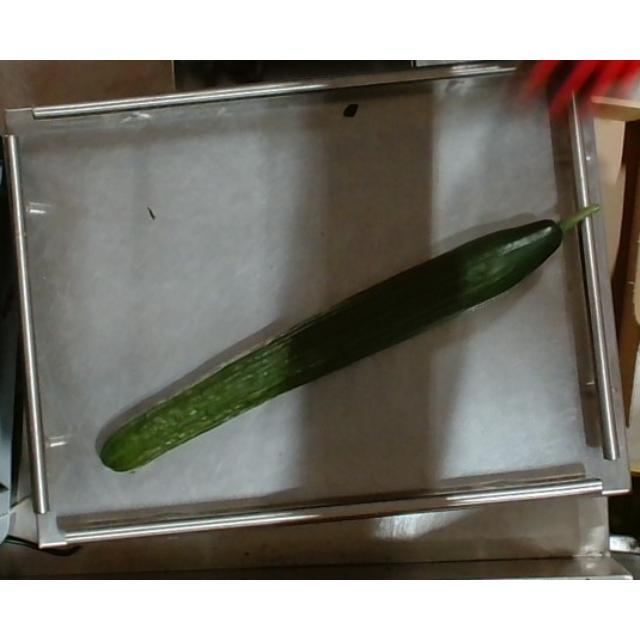cucumber: (98, 200, 600, 480)
